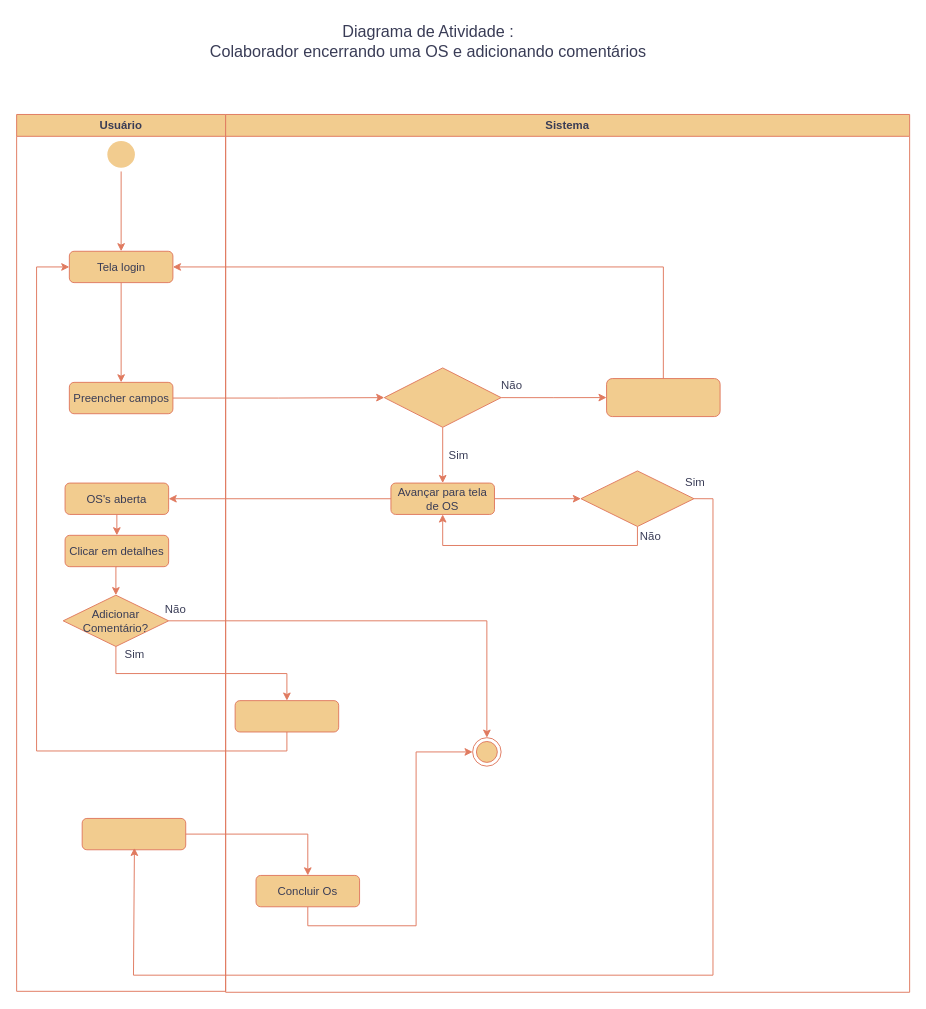
The diagram is 926 pixels wide and 1009 high, and some of its shapes have lost their labels. Each missing label, with the centre of its shape:
"Acessar Detalhes" goes at (x=133, y=833).
"Adiciona Comentário" goes at (x=286, y=716).
"Mensagem de erro atualizar página" goes at (x=663, y=397).
"Verificar dados Usuário existe?" goes at (x=442, y=397).
"Área de manutenção?" goes at (x=637, y=498).
